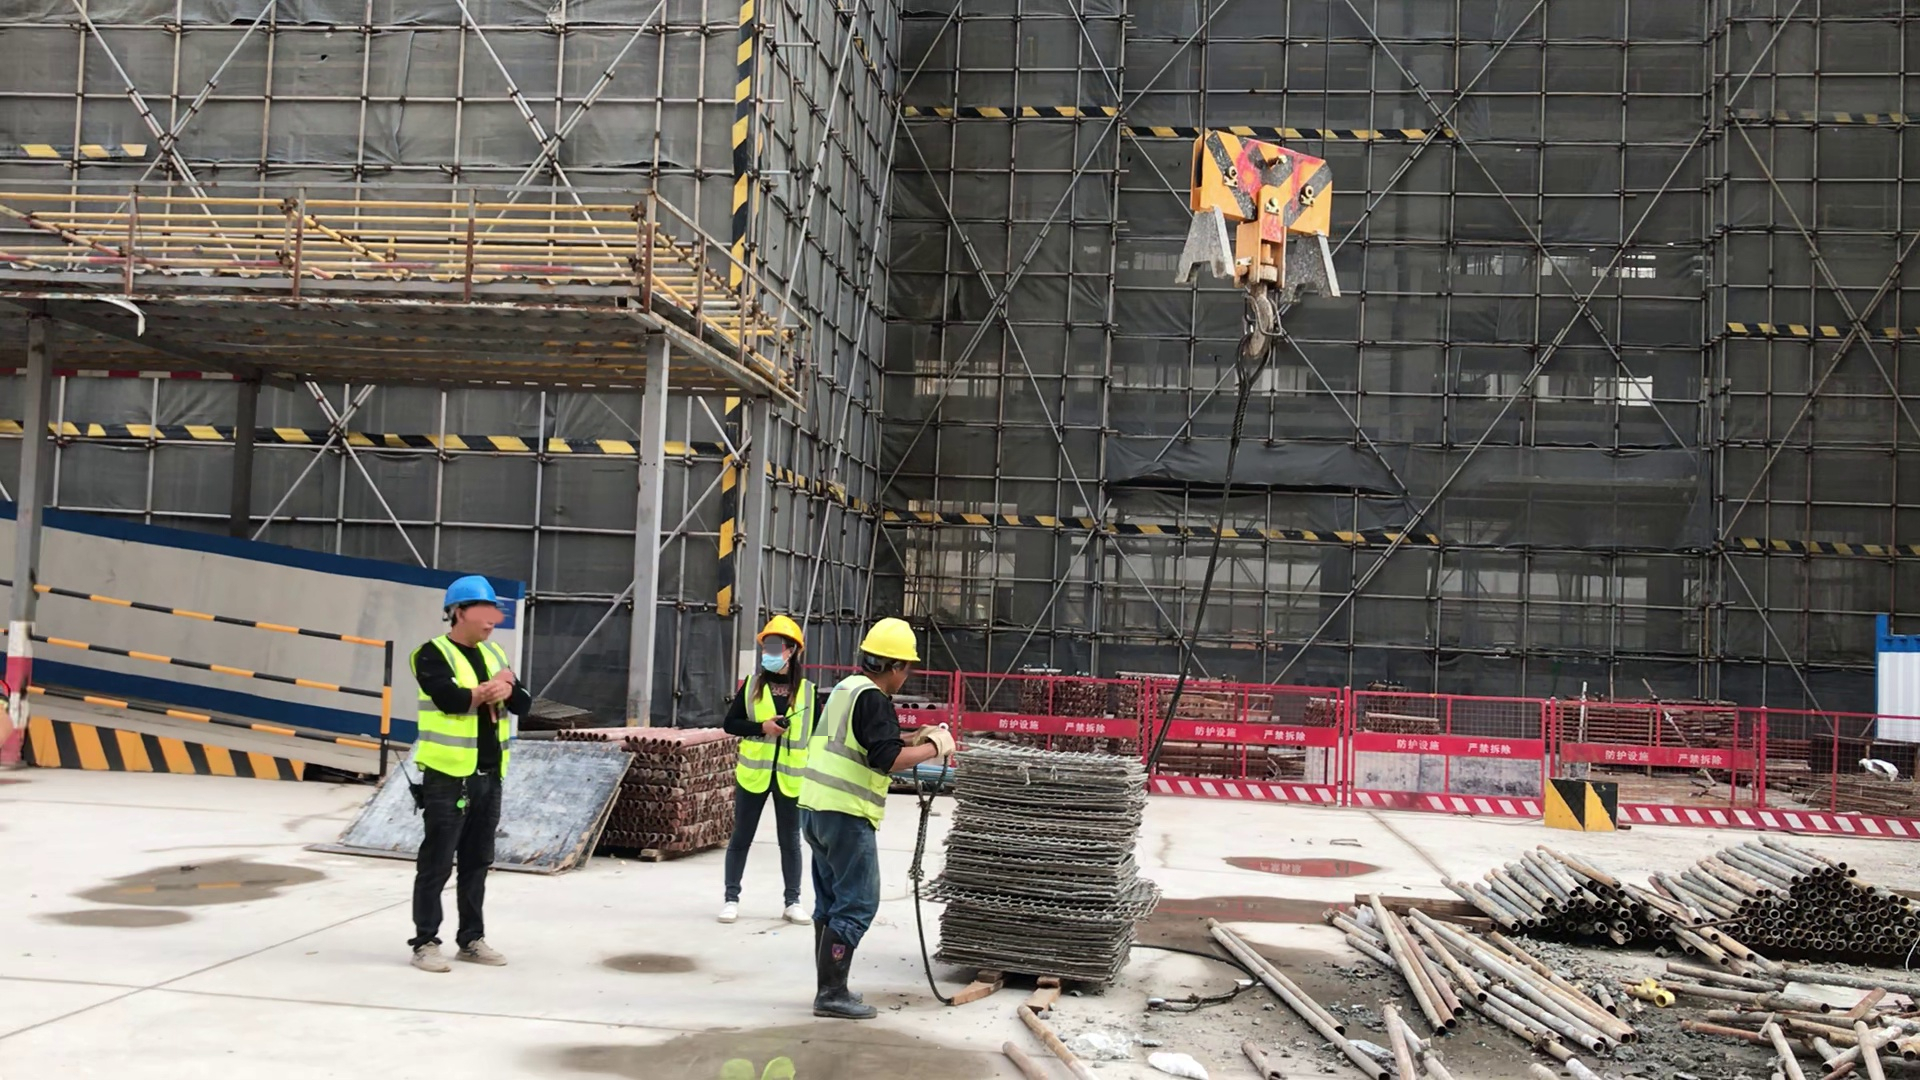fence: (39, 571, 393, 758), (1191, 678, 1545, 828), (1626, 695, 1917, 841), (948, 667, 1137, 745)
helmet: (855, 617, 922, 665), (444, 574, 504, 609), (755, 616, 806, 653)
hook: (1165, 127, 1350, 376)
person: (807, 611, 954, 1023), (410, 571, 537, 979), (711, 613, 812, 928)
scaffold: (1673, 835, 1920, 964), (1444, 850, 1671, 958), (628, 722, 730, 863)
vest: (417, 635, 519, 785), (801, 675, 895, 828), (733, 672, 808, 806)
